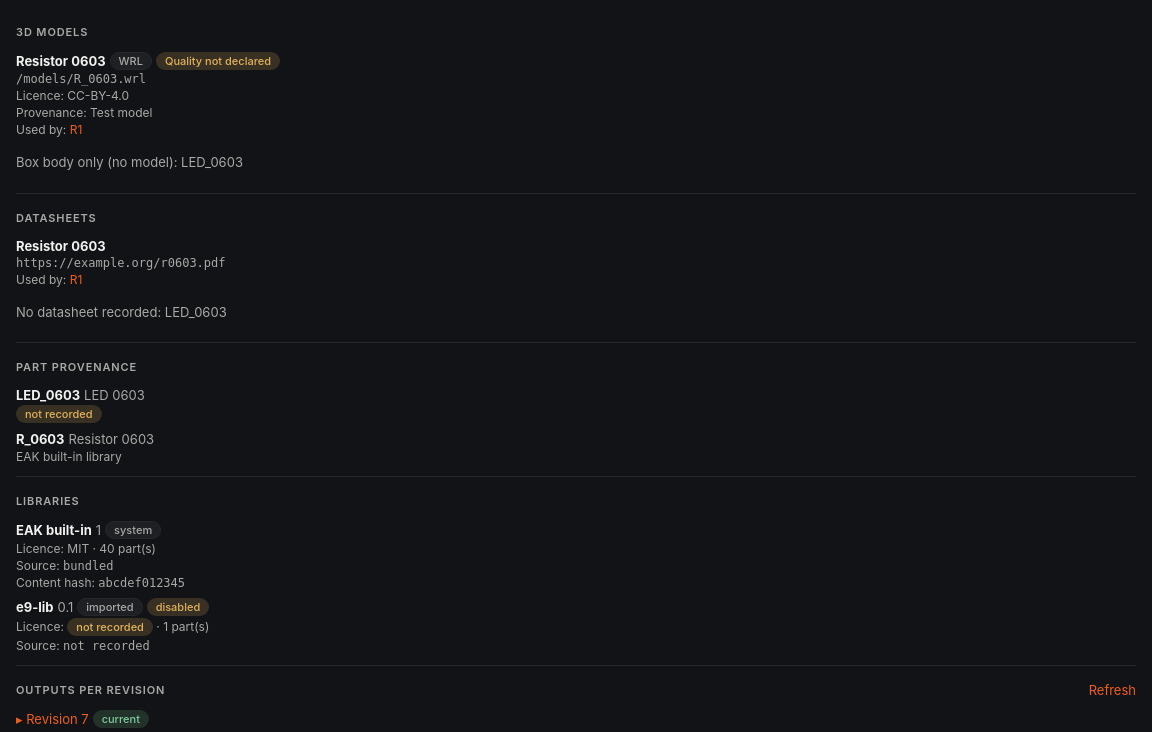
Test: Assets view › lists outputs per revision; expanding shows the manifest status and a file opens in the viewer
Check: the text "current" is shown, box [93,710,149,728]
Click the button with aria-label "Expand Revision 7" at (52, 719), box [16,711,89,727]
(page scrolled)
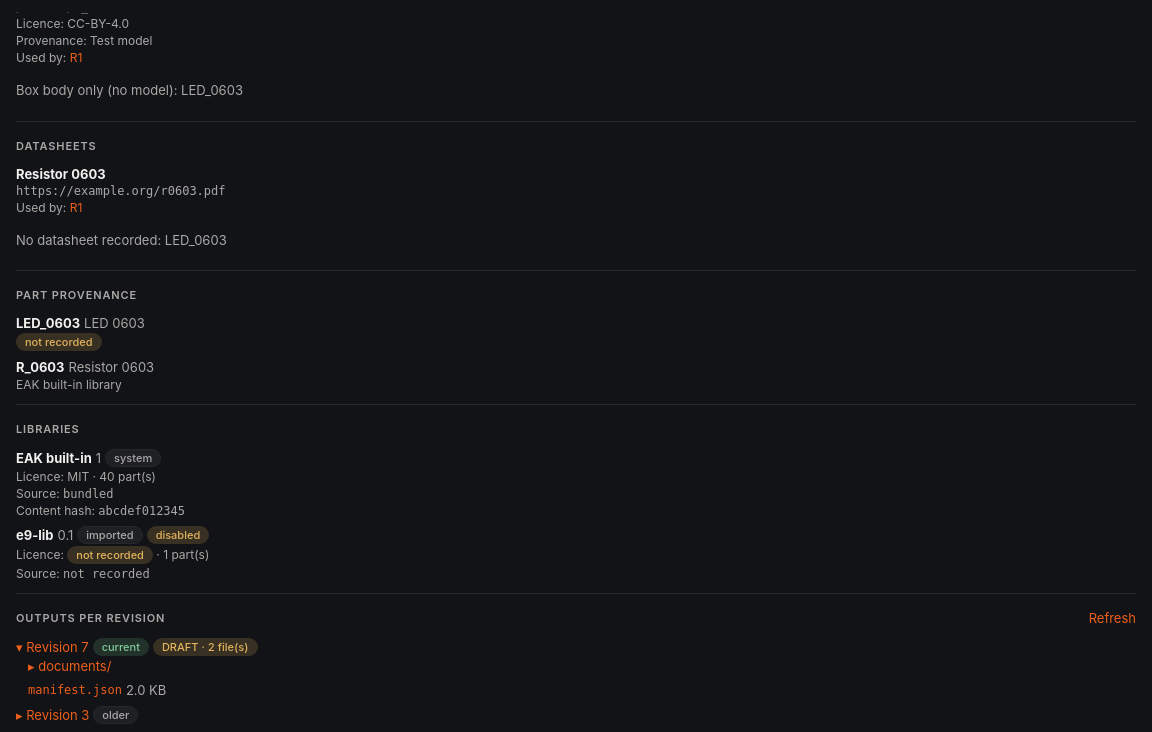
Check: the text "DRAFT · 2 file(s)" is shown, box [153,638,258,656]
Click the button with aria-label "Expand documents/" at (70, 666), box [28,658,111,674]
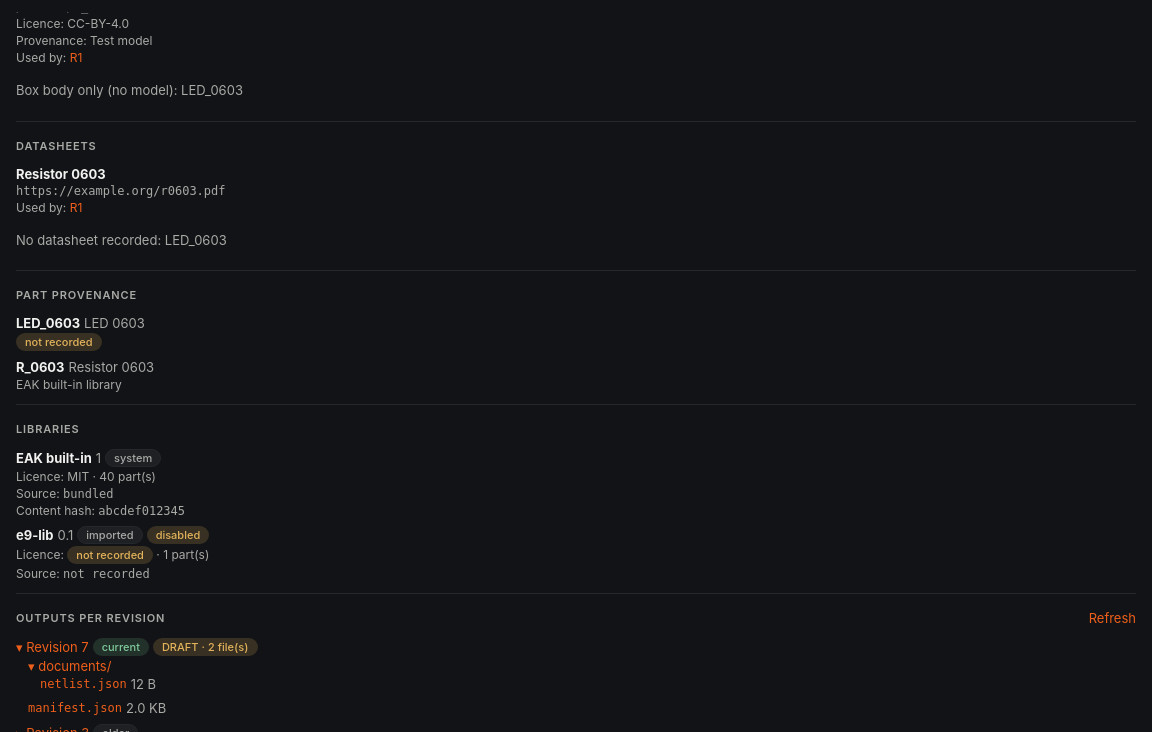
Click the button "netlist.json" at (83, 684), box [40,677,127,691]
(page scrolled)
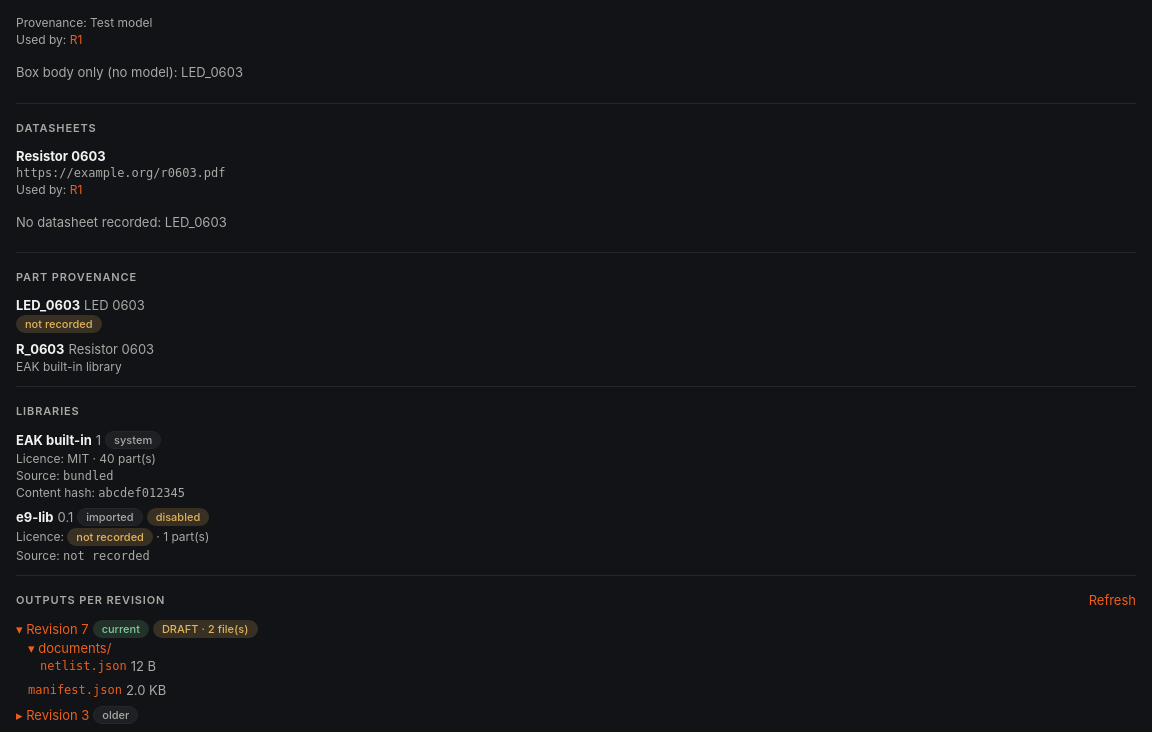
Click the button with aria-label "Expand Revision 3" at (53, 715), box [16,707,89,723]
(page scrolled)
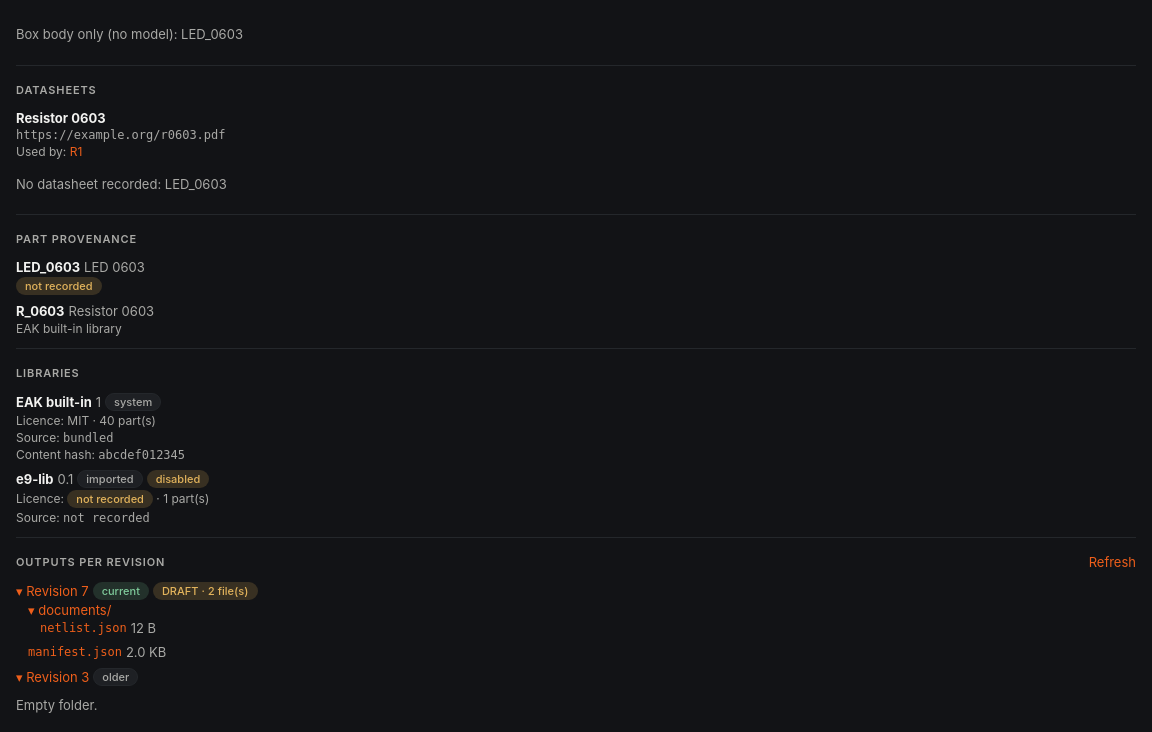
Check: the text "Empty folder." is shown, box [16,697,97,713]
